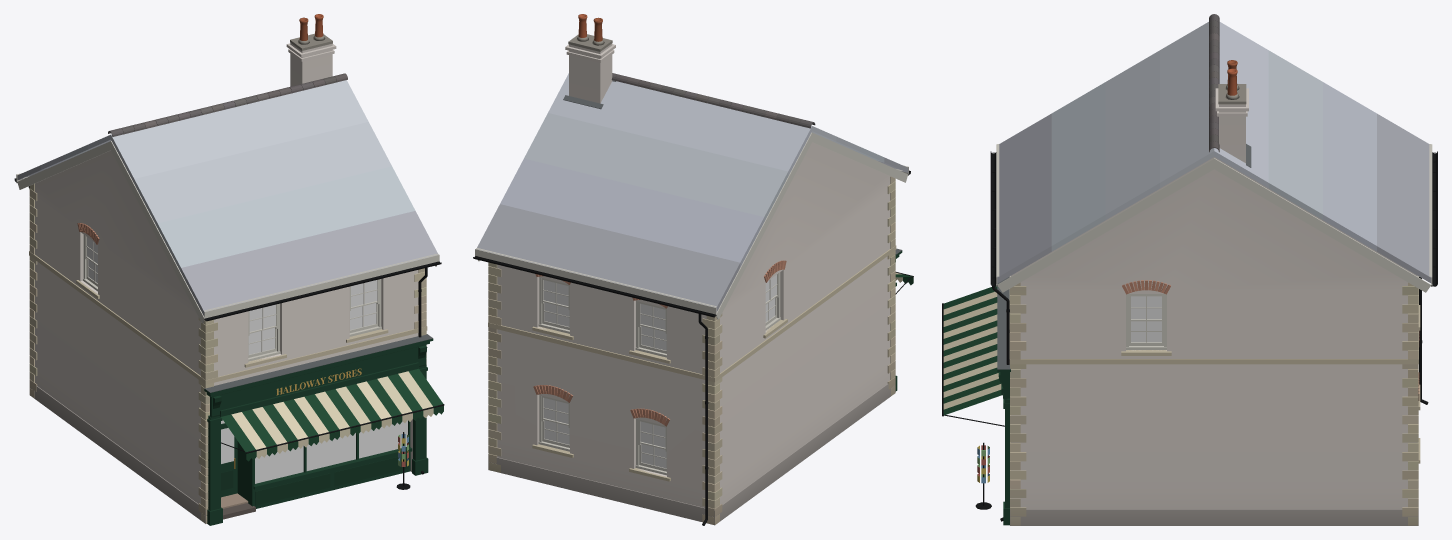
The model's file is town_shop_a.glb.
3 renders of one model, left to right at view 1: azimuth 30°, elevation 25°; view 2: azimuth 150°, elevation 25°; view 3: azimuth 270°, elevation 25°, orthographic. The views are drawn at different scales.
Parts seen in each view (by area): view 1: body; view 2: body; view 3: body.
Boxes of the visible parts, box(x1,y1,x2,y2) form: body: box(14, 14, 444, 525); body: box(473, 14, 913, 525); body: box(942, 14, 1437, 525).
Size of what is drawn, in the model's own units: 6.97 by 10.95 by 10.96.
